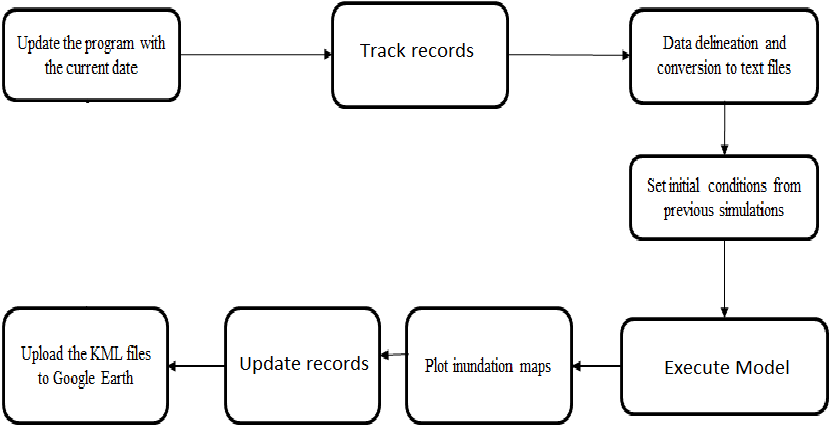arrow: (179, 48, 331, 60), (509, 49, 631, 62), (717, 240, 729, 319), (168, 359, 226, 373), (572, 358, 623, 373), (719, 105, 730, 156), (379, 349, 408, 363)
process: (616, 315, 832, 418), (2, 304, 172, 427), (403, 305, 576, 425), (329, 1, 512, 111), (221, 304, 384, 427), (626, 5, 821, 106), (627, 151, 821, 245), (2, 5, 183, 105)
text: (645, 174, 804, 222), (15, 32, 168, 77), (19, 340, 153, 389), (655, 32, 792, 76), (423, 354, 553, 379), (238, 353, 369, 375), (356, 41, 476, 62), (660, 359, 792, 377)
